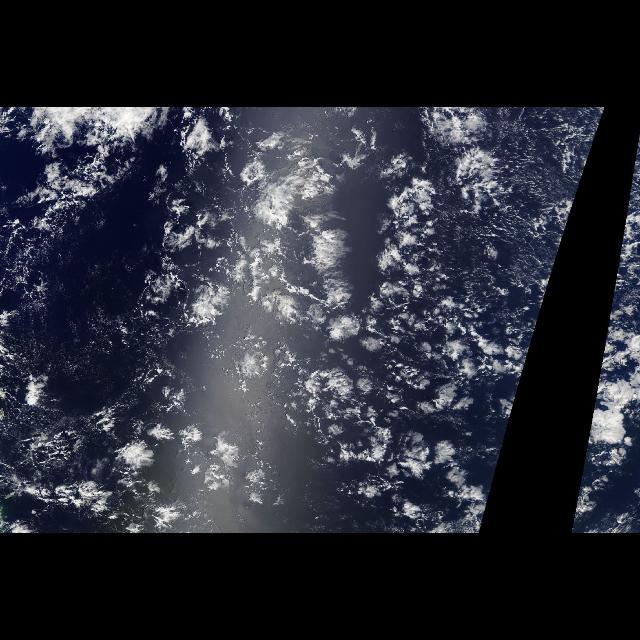Flower: (173, 131, 497, 515)
Gravel: (4, 170, 110, 516), (449, 113, 599, 325)
